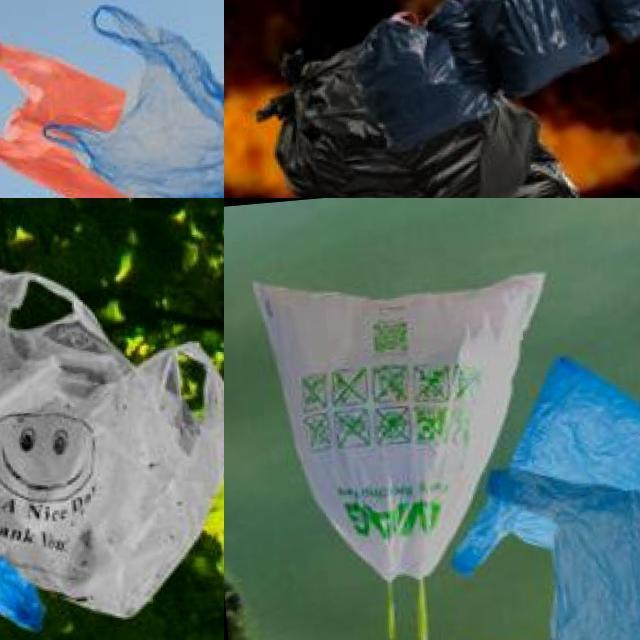waste: (247, 262, 562, 594), (0, 249, 224, 625), (266, 0, 573, 198), (36, 0, 224, 198), (462, 449, 640, 640), (0, 21, 191, 198), (435, 0, 617, 96)
